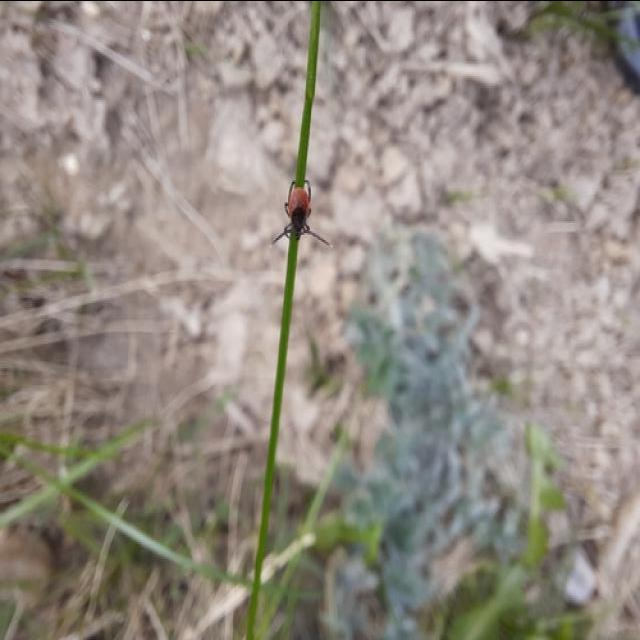Ixodes Ricinus-F: (273, 176, 328, 242)
